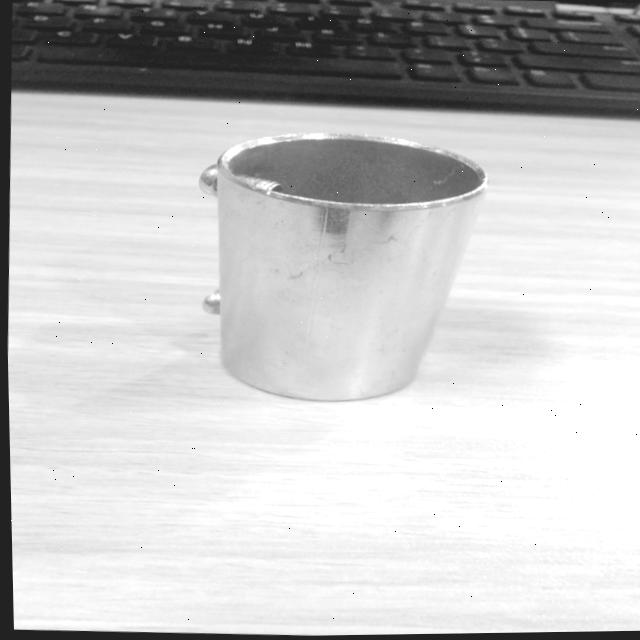Co_Nho: (189, 127, 488, 406)
